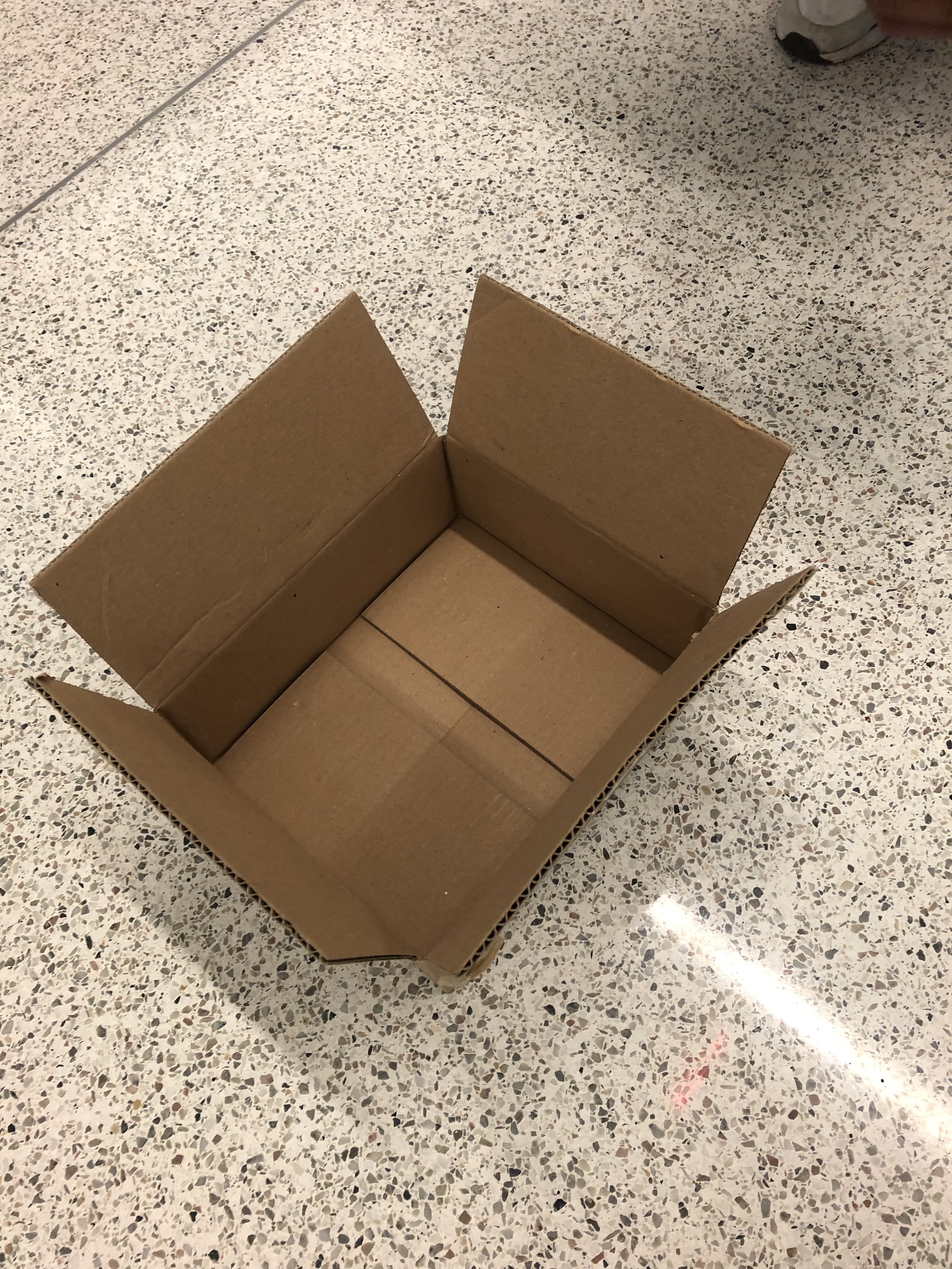box: (28, 273, 817, 985)
crushed: (31, 273, 817, 983)
